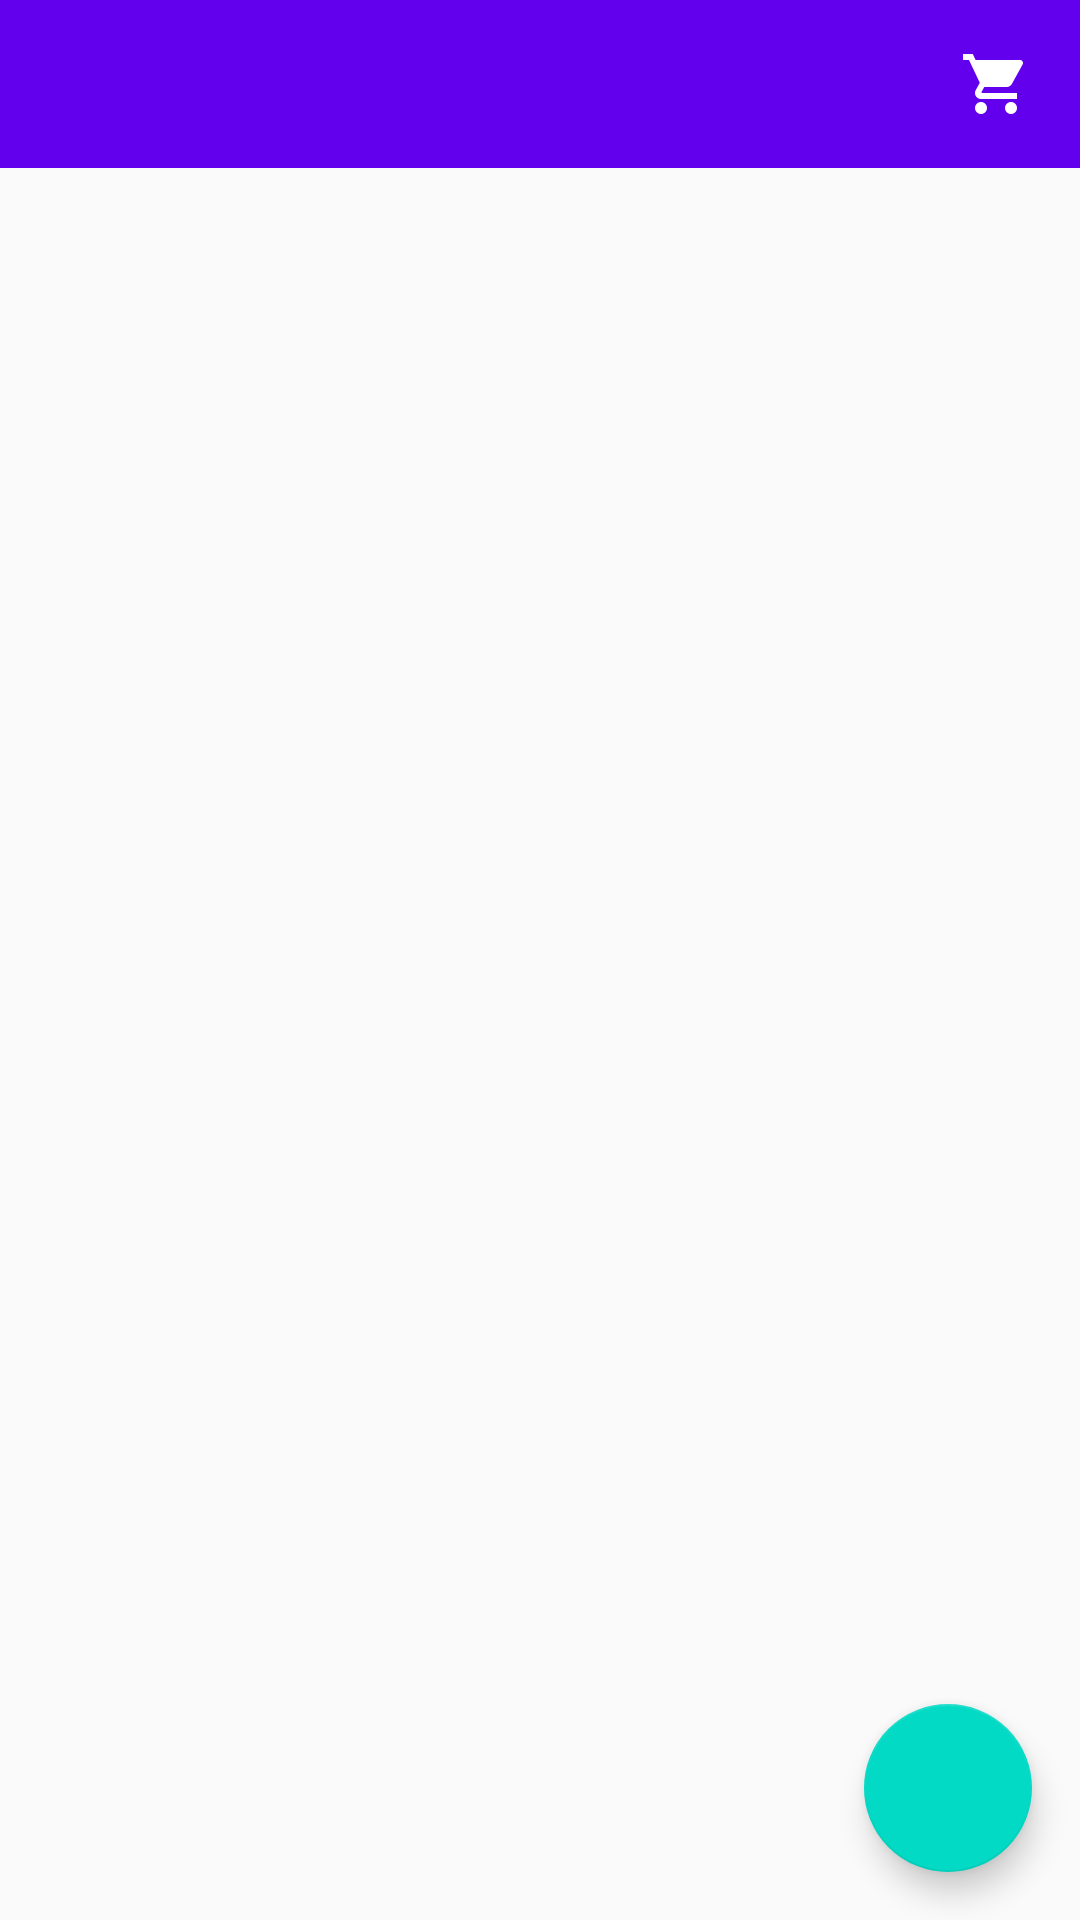

Named icons in this screenshot (1080×1920) and their centers, point (x, y):
shopping cart: point (993, 84)
